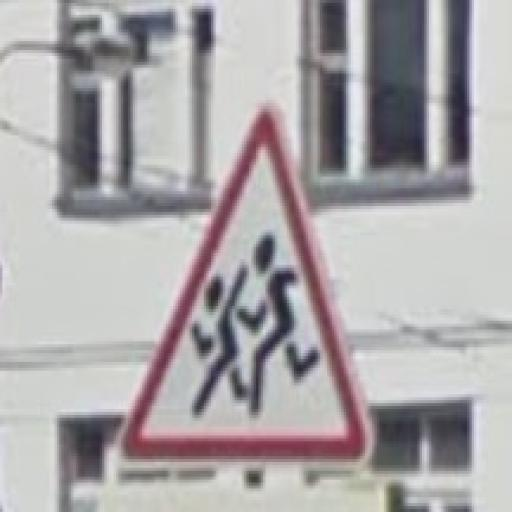traffic_sign: (113, 104, 376, 475)
